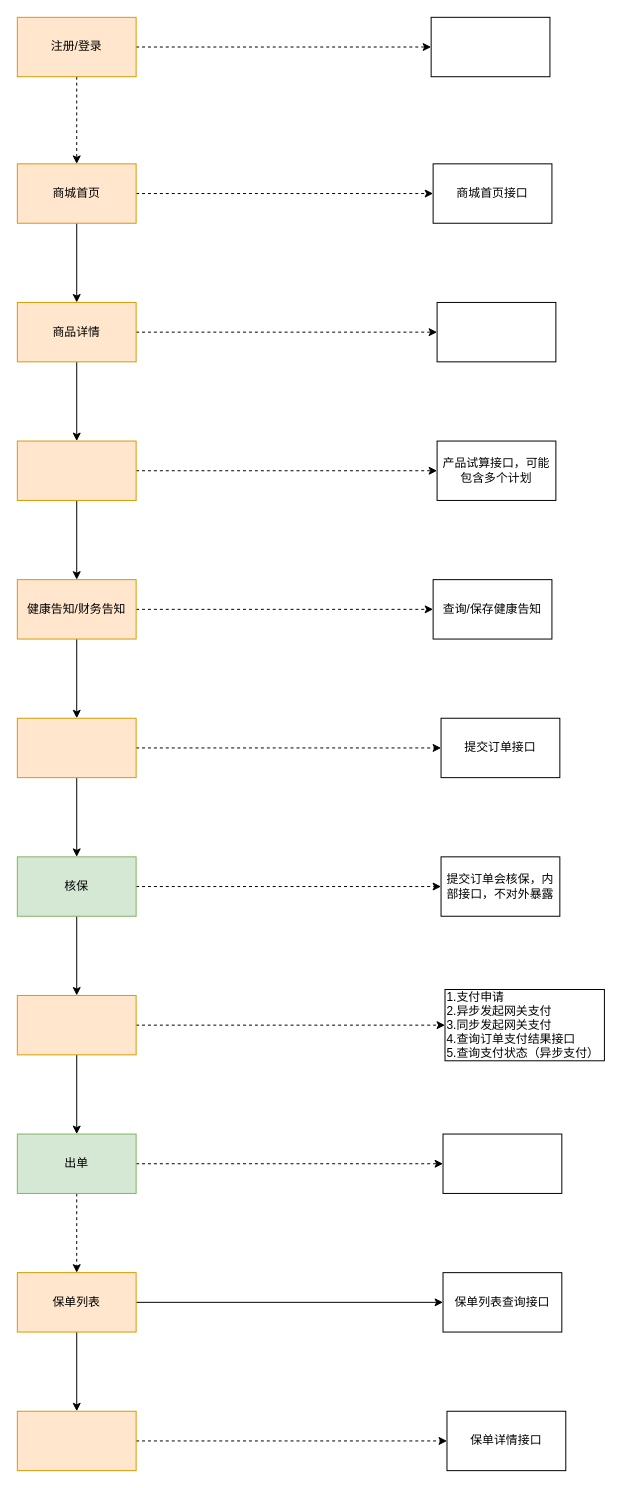
Some shapes in this 622 by 1488 pixel diagram are drawn without their labels. Here are the shapes that lost their labels. From the top down, the box of each, then its label:
(430, 16, 550, 77): 1.Oauth2授权登录 2.外部token直接注册
(436, 301, 556, 362): 商品详情接口
(16, 440, 136, 500): 产品试算
(16, 717, 136, 778): 投保信息填写，并下单
(16, 994, 136, 1055): 支付
(442, 1133, 562, 1193): 支付成功后，调用保险公司出单
(16, 1410, 136, 1471): 保单详情
